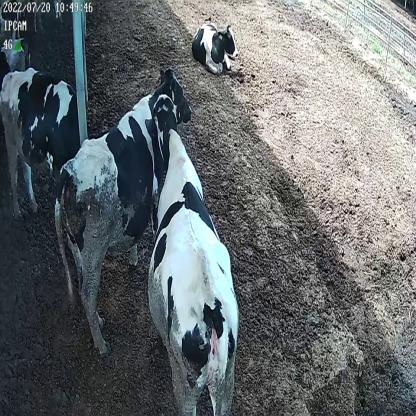cow: (53, 66, 191, 358), (149, 90, 241, 416), (0, 66, 83, 215), (189, 14, 240, 70)
